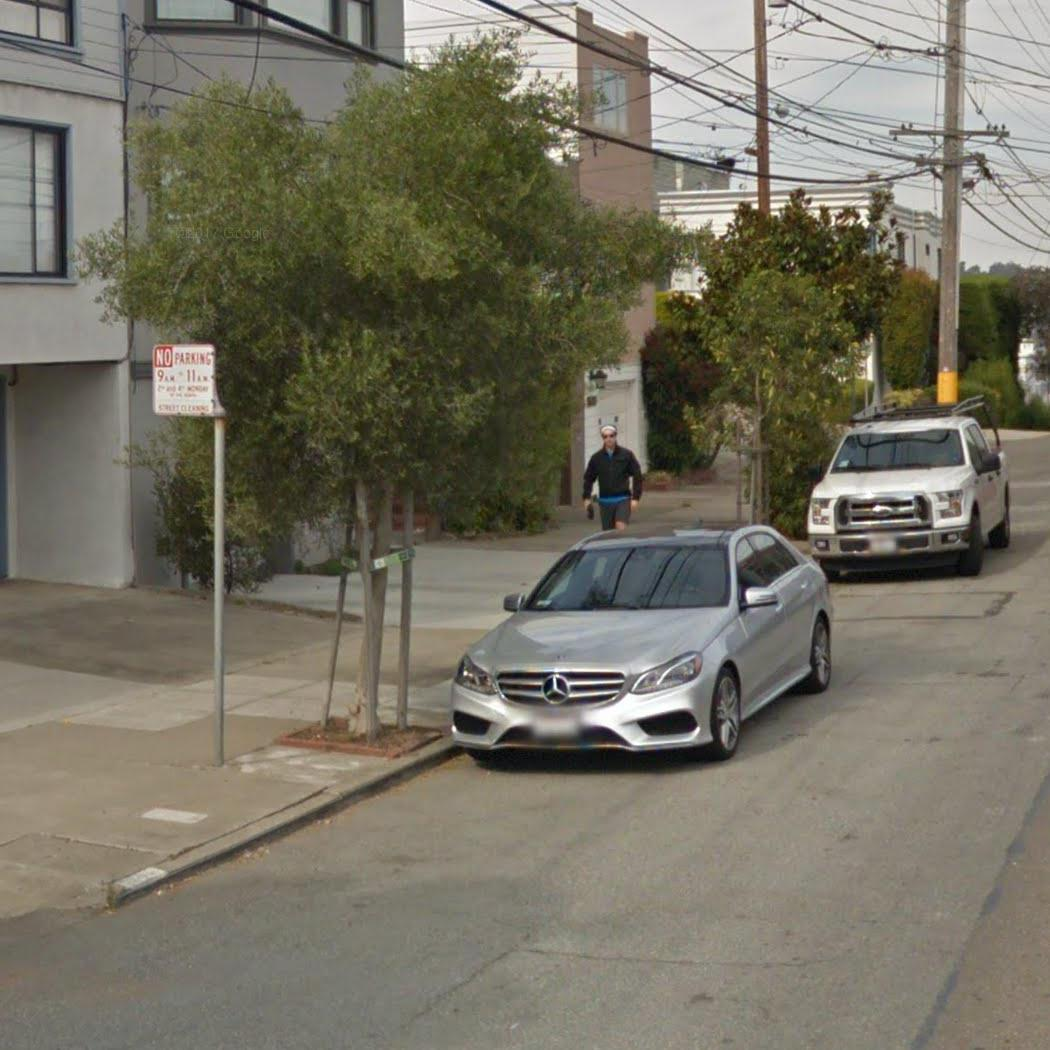No Parking: (149, 341, 217, 420)
